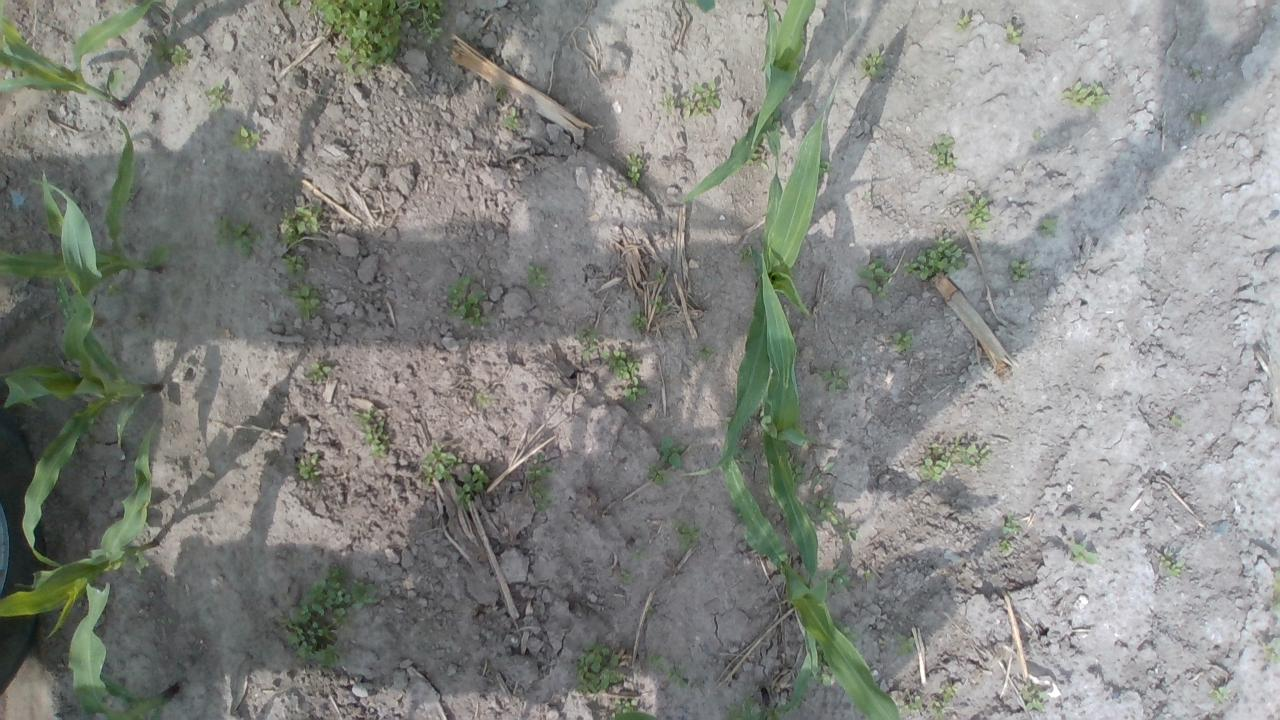Maize: (676, 70, 842, 480), (0, 278, 169, 566), (0, 118, 172, 356), (0, 406, 162, 640), (716, 392, 859, 640), (676, 1, 815, 204), (2, 1, 158, 112)
Weeds: (270, 564, 383, 673), (310, 1, 444, 78), (270, 204, 326, 322), (914, 436, 994, 485), (571, 640, 626, 698), (900, 234, 964, 279), (808, 489, 862, 541), (599, 347, 649, 402), (446, 274, 496, 329), (209, 209, 261, 260), (659, 78, 723, 118), (642, 651, 698, 693), (896, 678, 960, 714), (351, 408, 391, 458), (520, 454, 556, 509), (650, 435, 686, 488), (148, 23, 192, 66), (852, 255, 892, 300), (419, 440, 457, 485), (722, 696, 796, 719), (1060, 75, 1106, 108), (456, 463, 489, 508), (833, 559, 875, 592), (672, 515, 706, 555), (1158, 548, 1192, 586), (1020, 680, 1060, 711), (994, 513, 1022, 556), (819, 360, 851, 396), (926, 132, 954, 172), (964, 190, 990, 232), (607, 698, 658, 718), (1068, 541, 1102, 567), (861, 48, 888, 80), (302, 358, 331, 385), (576, 322, 598, 357), (738, 242, 762, 274), (888, 328, 915, 356), (296, 450, 320, 481), (232, 127, 259, 154), (522, 261, 548, 289), (1007, 258, 1033, 284), (741, 144, 769, 168), (624, 151, 646, 180), (203, 83, 227, 109), (1268, 566, 1280, 618), (815, 660, 838, 687), (1003, 22, 1026, 48), (1034, 215, 1060, 238), (1262, 640, 1280, 672), (628, 310, 650, 336), (894, 629, 918, 651), (692, 344, 716, 366), (832, 618, 858, 637), (1212, 682, 1234, 704), (500, 110, 522, 132), (617, 567, 635, 587), (955, 9, 970, 31), (654, 296, 672, 314), (475, 391, 492, 408), (282, 0, 304, 12), (1191, 106, 1208, 121), (632, 546, 646, 560), (1188, 64, 1198, 78)
